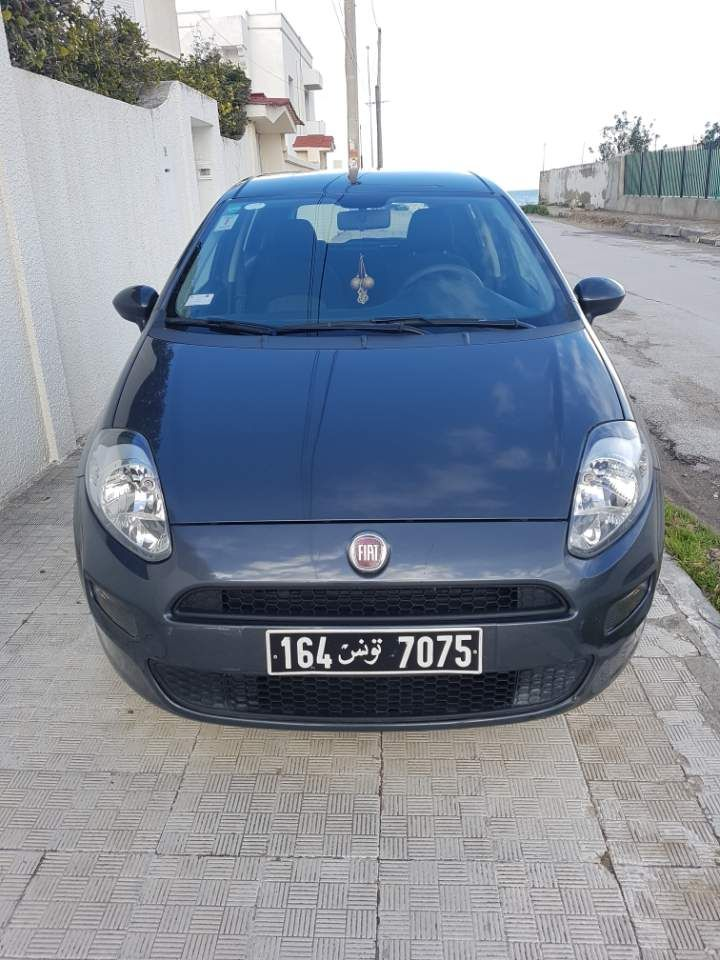LP: (265, 628, 481, 675)
